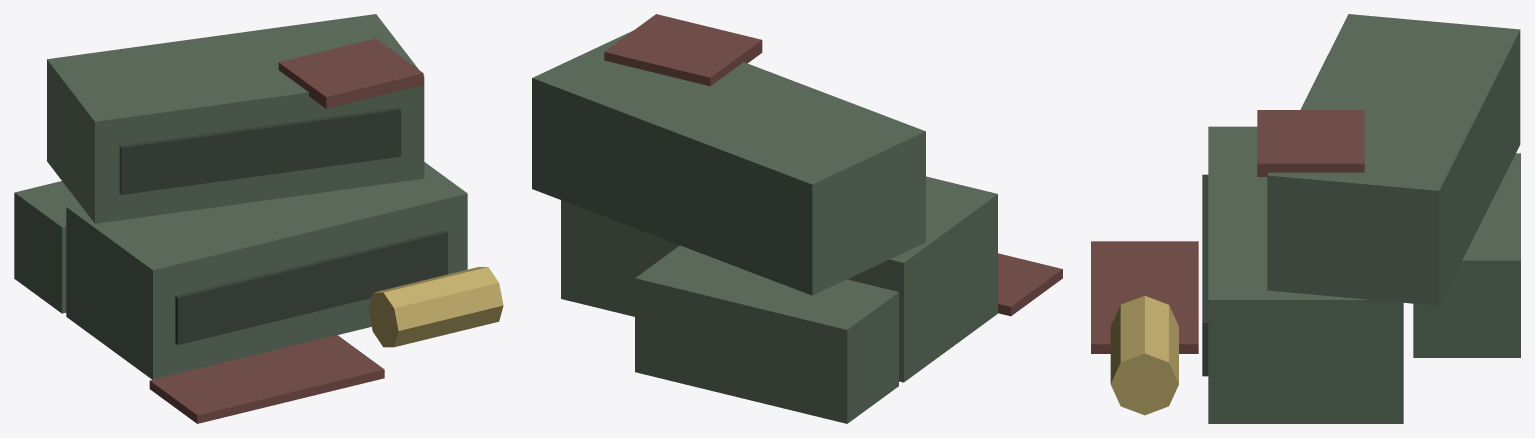
File: oc_ammo_stack.obj
3 renders of one model, left to right at view 1: azimuth 30°, elevation 25°; view 2: azimuth 150°, elevation 25°; view 3: azimuth 270°, elevation 25°, orthographic. The views are drawn at different scales.
Visible parts, largest first — view 1: oc_ammo_stack_2, oc_ammo_stack_0, oc_ammo_stack_3, oc_ammo_stack_1, oc_ammo_stack_5, oc_ammo_stack_6, oc_ammo_stack_7, oc_ammo_stack_4; view 2: oc_ammo_stack_2, oc_ammo_stack_4, oc_ammo_stack_0, oc_ammo_stack_7, oc_ammo_stack_5; view 3: oc_ammo_stack_2, oc_ammo_stack_0, oc_ammo_stack_4, oc_ammo_stack_5, oc_ammo_stack_6, oc_ammo_stack_7, oc_ammo_stack_1.
Part boxes in pixels (box(x1,y1,x2,y2)): oc_ammo_stack_2: box(47, 14, 424, 223); oc_ammo_stack_0: box(66, 162, 467, 379); oc_ammo_stack_3: box(119, 107, 401, 194); oc_ammo_stack_1: box(175, 230, 447, 344); oc_ammo_stack_5: box(149, 335, 384, 423); oc_ammo_stack_6: box(368, 267, 503, 347); oc_ammo_stack_7: box(278, 38, 423, 108); oc_ammo_stack_4: box(14, 181, 79, 313); oc_ammo_stack_2: box(532, 30, 925, 295); oc_ammo_stack_4: box(635, 245, 898, 423); oc_ammo_stack_0: box(561, 176, 997, 382); oc_ammo_stack_7: box(604, 14, 762, 86); oc_ammo_stack_5: box(998, 253, 1062, 316); oc_ammo_stack_2: box(1267, 14, 1520, 305); oc_ammo_stack_0: box(1208, 126, 1403, 423); oc_ammo_stack_4: box(1413, 153, 1520, 357); oc_ammo_stack_5: box(1091, 241, 1198, 353); oc_ammo_stack_6: box(1110, 296, 1178, 415); oc_ammo_stack_7: box(1257, 110, 1364, 176); oc_ammo_stack_1: box(1202, 174, 1208, 376).
Size of the model in its own units: 0.8887 by 0.57 by 0.88.
